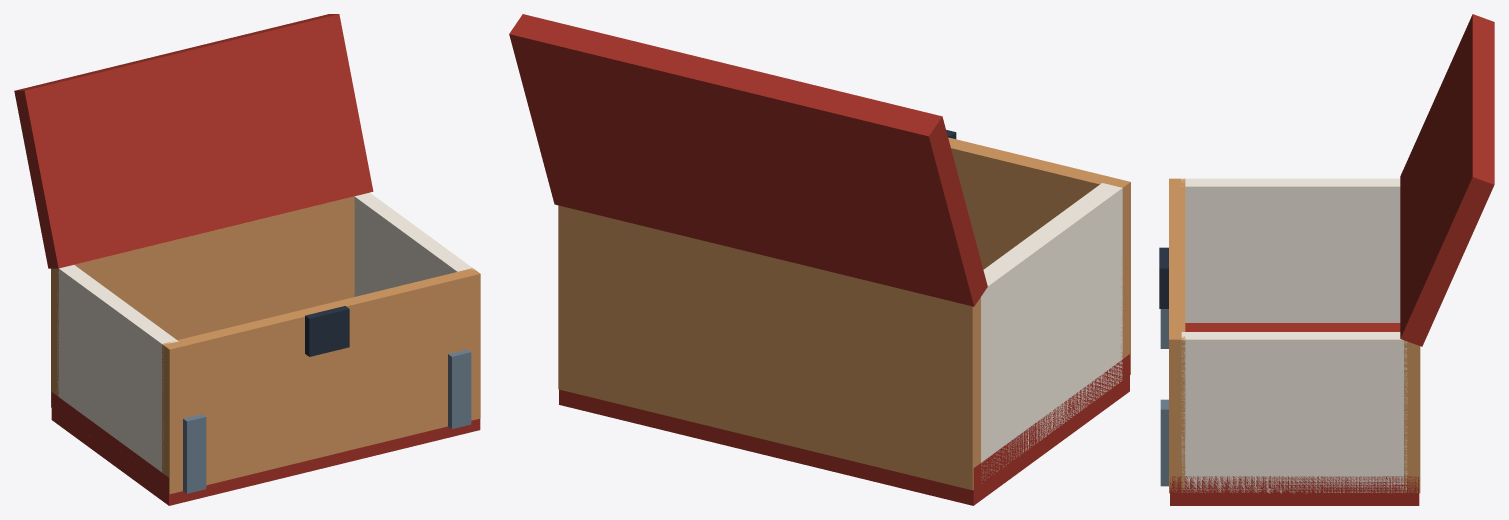
3 renders of one model, left to right at view 1: azimuth 30°, elevation 25°; view 2: azimuth 150°, elevation 25°; view 3: azimuth 270°, elevation 25°, orthographic. The views are drawn at different scales.
Visible parts, largest first — view 1: raised lid, panel 0.5, panel -0.5, end panel -0.77, floor, end panel 0.77, clasp, corner 0.69, corner -0.69; view 2: raised lid, panel -0.5, end panel -0.77, floor, panel 0.5; view 3: end panel 0.77, end panel -0.77, raised lid, floor, panel 0.5, panel -0.5, corner 0.69, clasp.
Boxes of the visible parts, box(x1,y1,x2,y2) form: raised lid: box(14, 14, 373, 268); panel 0.5: box(162, 268, 480, 494); panel -0.5: box(51, 195, 356, 407); end panel -0.77: box(57, 265, 178, 472); floor: box(51, 392, 480, 505); end panel 0.77: box(354, 192, 473, 296); clasp: box(305, 306, 349, 356); corner 0.69: box(448, 349, 471, 428); corner -0.69: box(183, 414, 206, 493); raised lid: box(509, 14, 987, 306); panel -0.5: box(558, 205, 980, 490); end panel -0.77: box(981, 183, 1122, 483); floor: box(559, 354, 1129, 505); panel 0.5: box(948, 137, 1130, 377); end panel 0.77: box(1181, 332, 1407, 493); end panel -0.77: box(1181, 178, 1400, 322); raised lid: box(1400, 14, 1494, 346); floor: box(1170, 323, 1419, 505); panel 0.5: box(1169, 178, 1185, 493); panel -0.5: box(1404, 340, 1420, 493); corner 0.69: box(1160, 399, 1168, 486); clasp: box(1159, 247, 1168, 308).
Size of the model in its own units: 1.64 by 1.55 by 1.42.
